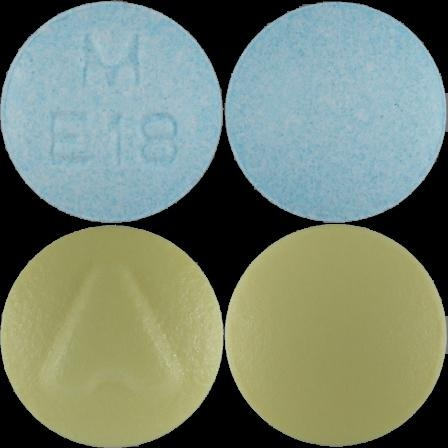67046-159: (0, 0, 224, 224)
